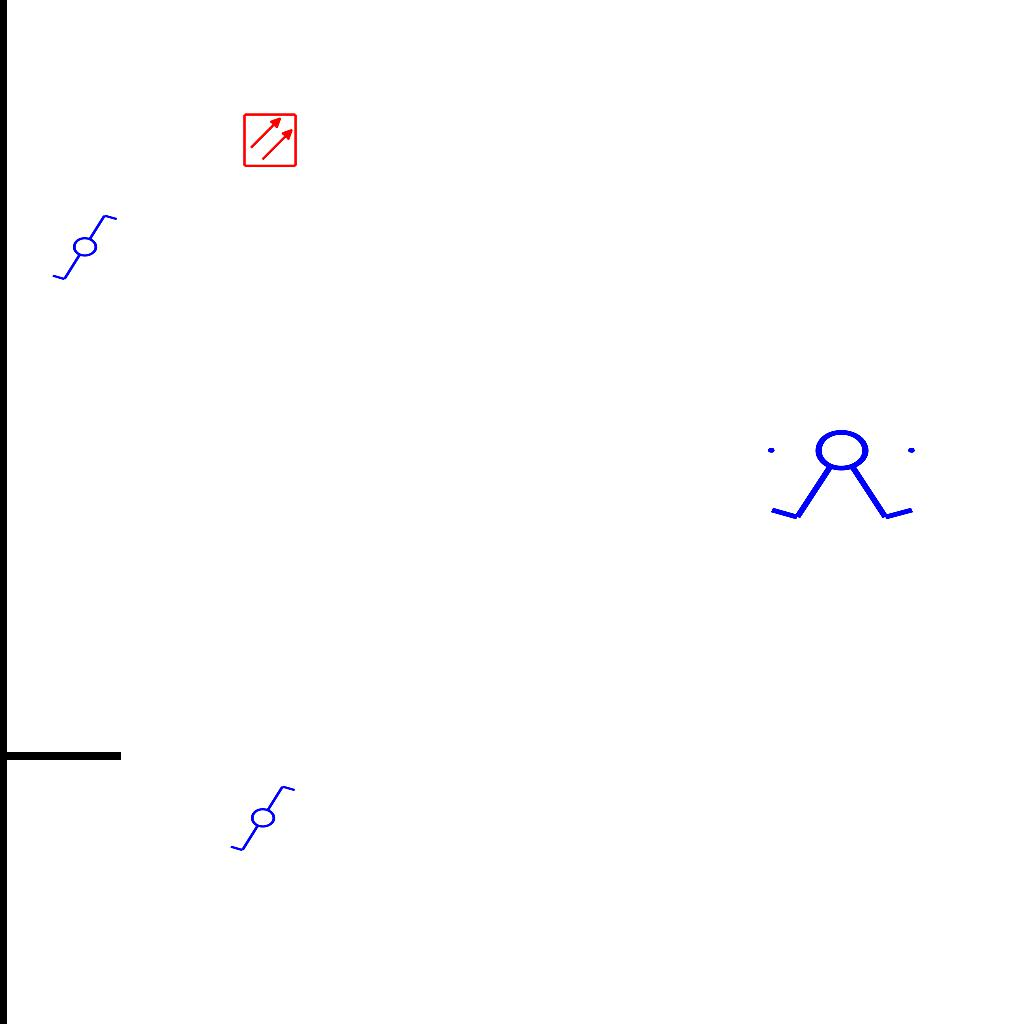RMO_Rauchmelder_optischer: (242, 112, 298, 168)
Serienschalter: (759, 428, 927, 524)
Wechselschalter: (50, 212, 128, 284), (228, 783, 306, 855)
